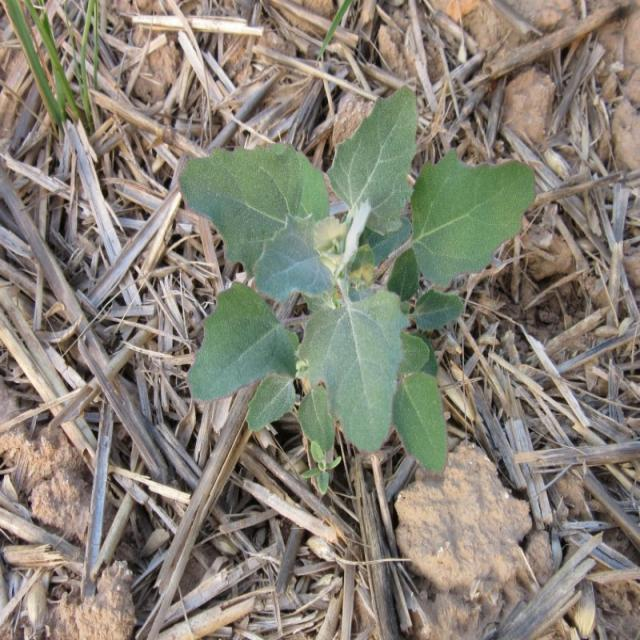ca: (178, 99, 529, 471)
